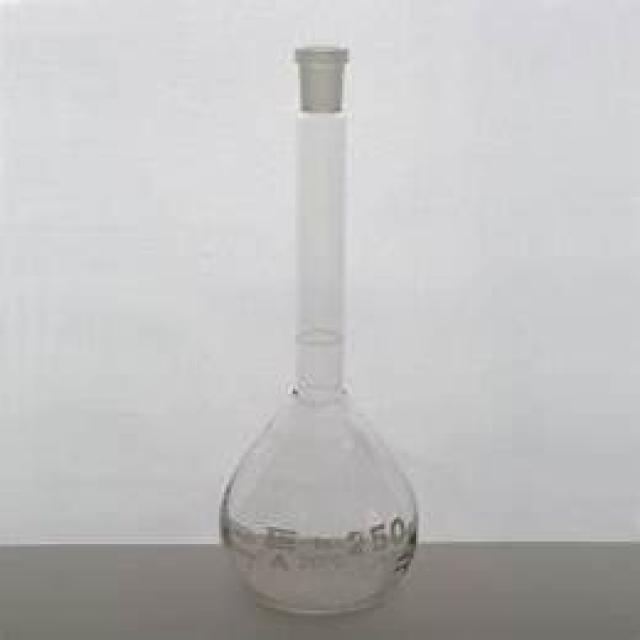Volumetric flask: (219, 43, 422, 612)
